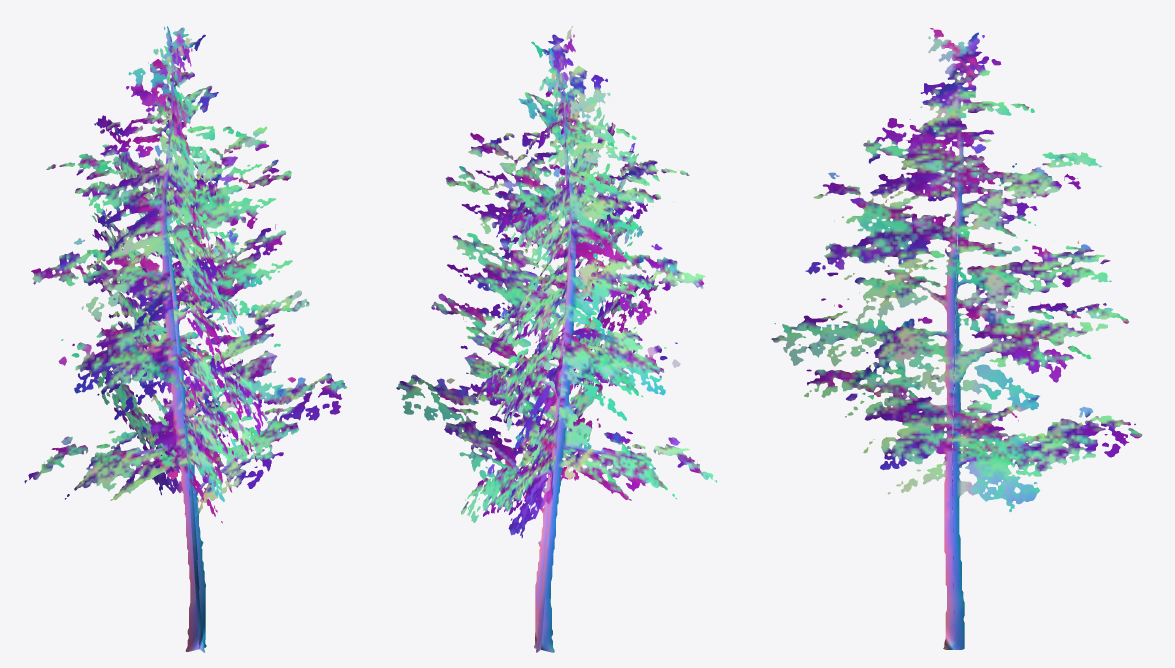
The model's file is beech_tree_02_cross_s.FBX.
3 views of the same model, side by side, from view 1: azimuth 30°, elevation 25°; view 2: azimuth 150°, elevation 25°; view 3: azimuth 270°, elevation 25° (orthographic).
Visible parts, largest first — view 1: beech_tree_02_cross; view 2: beech_tree_02_cross; view 3: beech_tree_02_cross.
Boxes of the visible parts, <box> form: beech_tree_02_cross: <box>24,26,347,652</box>; beech_tree_02_cross: <box>396,26,717,652</box>; beech_tree_02_cross: <box>771,28,1142,649</box>.
Size of the model in its own units: 7521 by 13224 by 7808.
